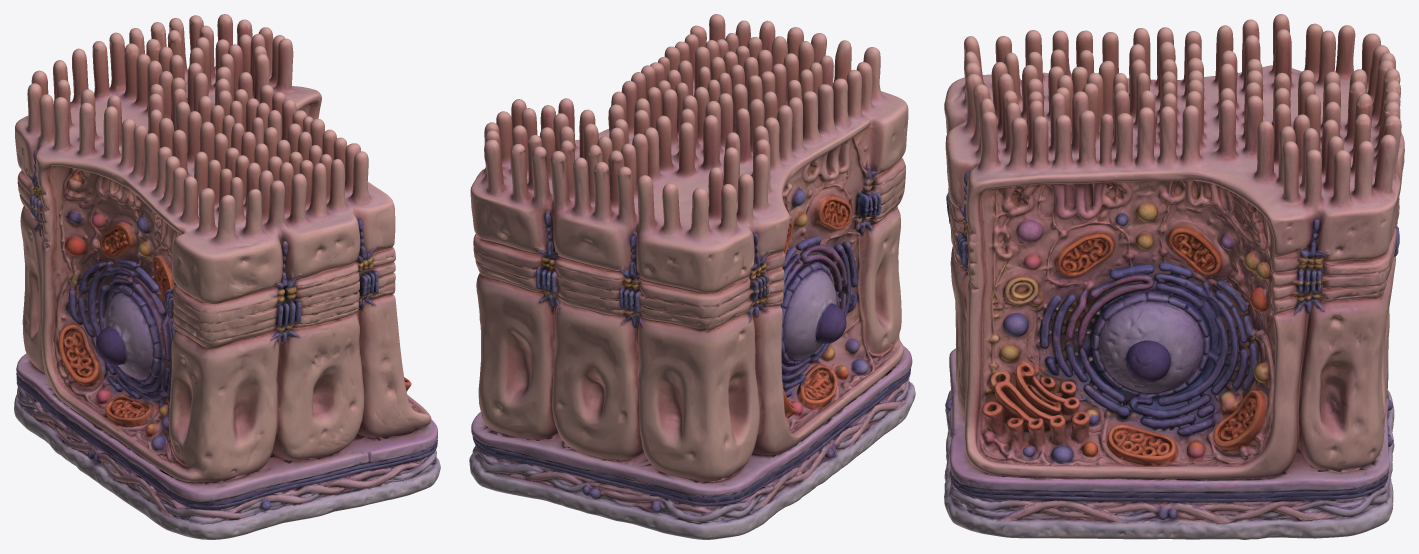
File: epithelial-tripo-web.glb
3 views of the same model, side by side, from view 1: azimuth 30°, elevation 25°; view 2: azimuth 150°, elevation 25°; view 3: azimuth 270°, elevation 25° (orthographic). The views are drawn at different scales.
Parts seen in each view (by area): view 1: tripo_node_63d1cb7b-c7ff-42e4-a5c5-6b55dd314503; view 2: tripo_node_63d1cb7b-c7ff-42e4-a5c5-6b55dd314503; view 3: tripo_node_63d1cb7b-c7ff-42e4-a5c5-6b55dd314503.
Boxes of the visible parts, box(x1,y1,x2,y2) form: tripo_node_63d1cb7b-c7ff-42e4-a5c5-6b55dd314503: box(14, 14, 440, 539); tripo_node_63d1cb7b-c7ff-42e4-a5c5-6b55dd314503: box(469, 14, 915, 539); tripo_node_63d1cb7b-c7ff-42e4-a5c5-6b55dd314503: box(944, 14, 1404, 539).
Bounding box in the file's own units: 0.7841 × 0.9228 × 0.9807.
1 material, 1 textured.
